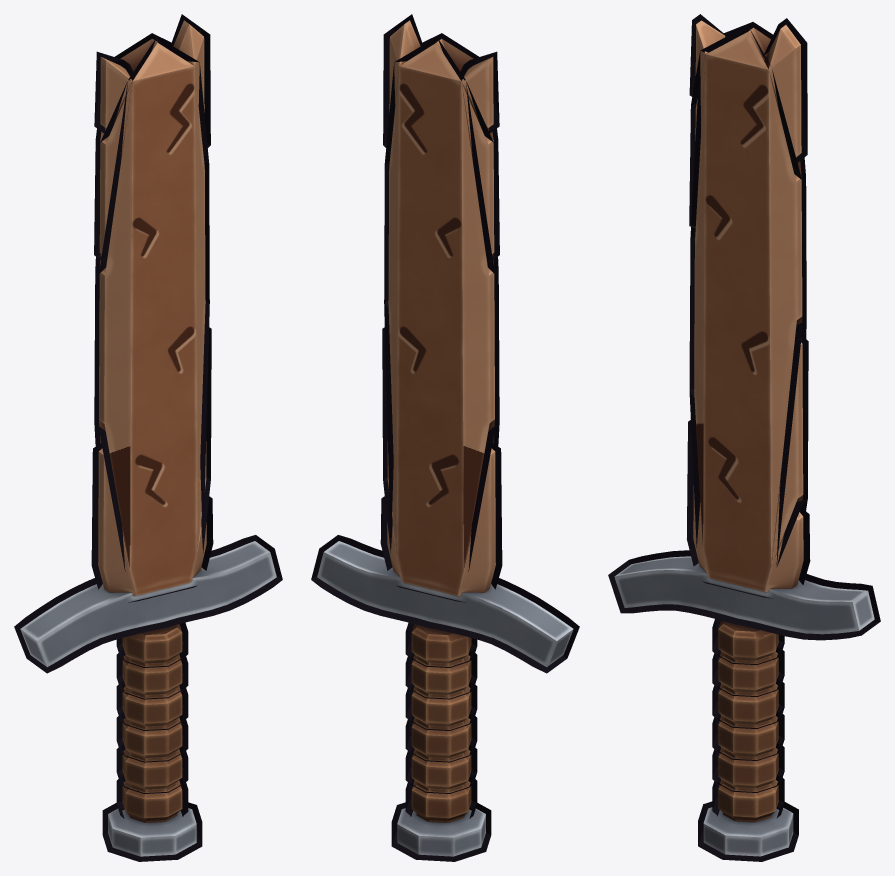
The model's file is RustySword.fbx.
The picture shows the model from 3 angles, left to right: view 1: azimuth 30°, elevation 25°; view 2: azimuth 150°, elevation 25°; view 3: azimuth 330°, elevation 25°; orthographic projection.
Parts seen in each view (by area): view 1: RustySword, RustySwordOutline; view 2: RustySword, RustySwordOutline; view 3: RustySword, RustySwordOutline.
Boxes of the visible parts, x1,y1,x2,y2 form: RustySword: [20, 20, 276, 856]; RustySwordOutline: [14, 14, 282, 861]; RustySword: [317, 20, 573, 856]; RustySwordOutline: [311, 14, 579, 861]; RustySword: [614, 20, 874, 856]; RustySwordOutline: [608, 14, 880, 861].
Size of the model in its own units: 96.53 by 306 by 34.58.
Materials: 2 (1 with a texture image).
